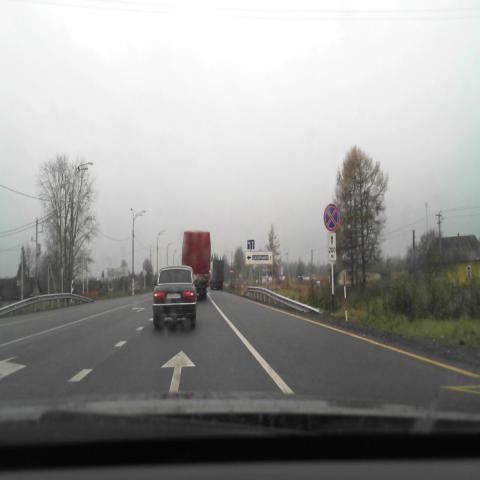8_2_2: (328, 232, 336, 260)
